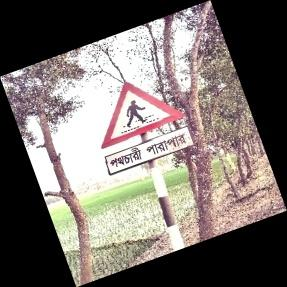Pedestrian-crossing: (100, 81, 193, 176)
